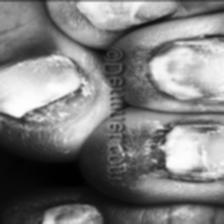Toxin: (142, 114, 224, 185)
